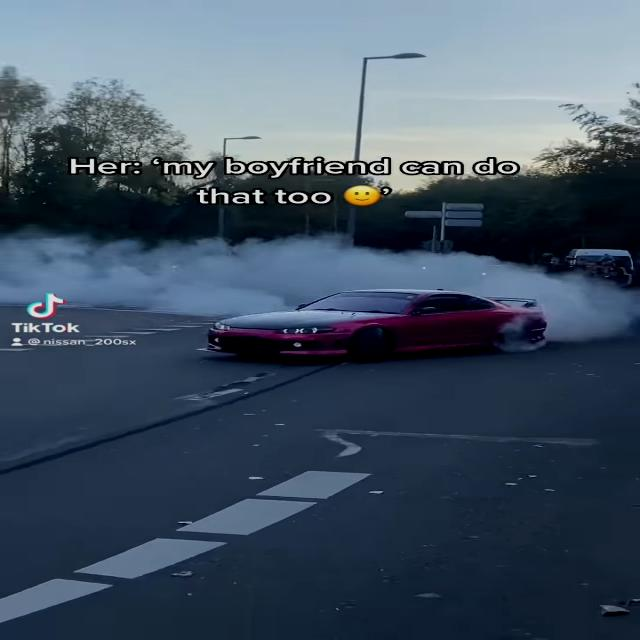car: (210, 288, 553, 366)
